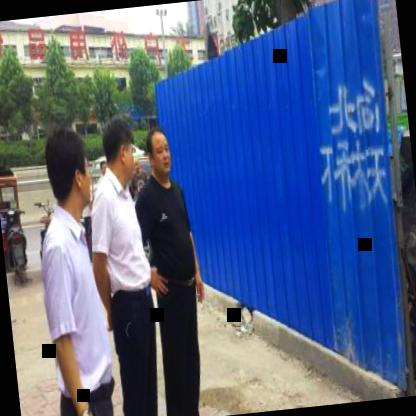head: (38, 123, 96, 219), (98, 112, 144, 190), (141, 123, 176, 183)
